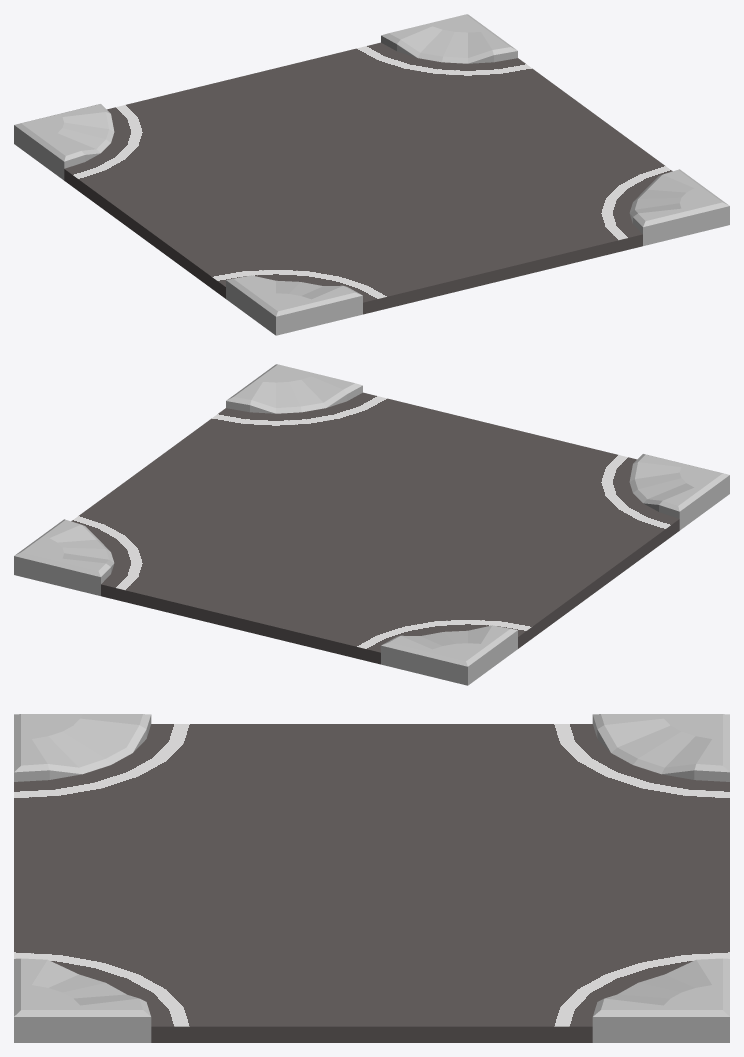
Rendered from road_4way.obj.
3 renders of one model, top to bottom at view 1: azimuth 30°, elevation 25°; view 2: azimuth 150°, elevation 25°; view 3: azimuth 270°, elevation 25°, orthographic. The views are drawn at different scales.
Parts seen in each view (by area): view 1: inter_4way1-col; view 2: inter_4way1-col; view 3: inter_4way1-col.
Part boxes in pixels (left/top/right/bottom): inter_4way1-col: left=14, top=14, right=729, bottom=335; inter_4way1-col: left=14, top=364, right=729, bottom=685; inter_4way1-col: left=14, top=714, right=729, bottom=1042.
Bounding box in the file's own units: 10 × 0.4638 × 10.
3 materials, 2 textured.
